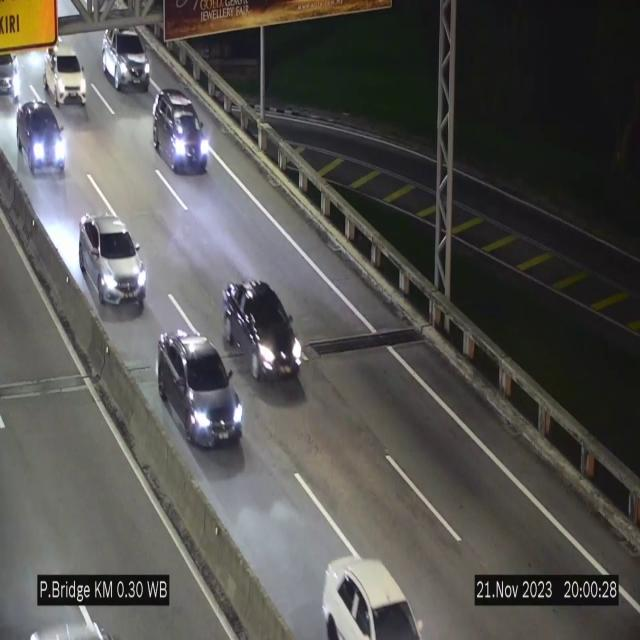Car: (312, 536, 426, 640), (158, 329, 244, 447), (221, 278, 305, 389), (78, 213, 146, 307), (148, 88, 212, 180), (13, 100, 69, 178), (41, 36, 92, 106), (102, 28, 150, 90), (0, 41, 24, 106)
